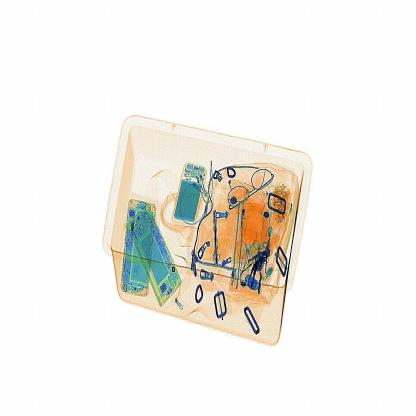knife: (212, 211, 222, 272)
